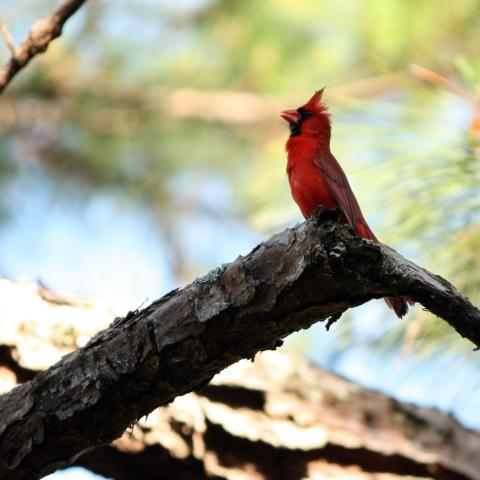bird: (277, 85, 413, 320)
